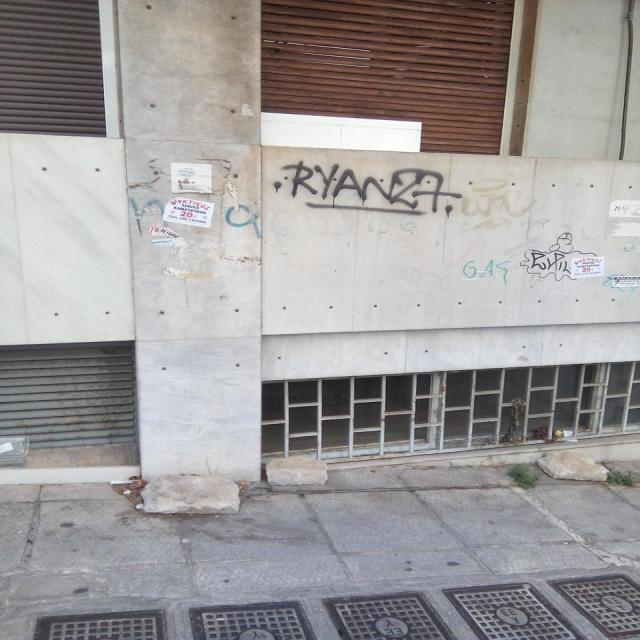nonspitting: (270, 157, 462, 217), (520, 232, 598, 282), (464, 178, 536, 229), (464, 258, 509, 282), (602, 274, 636, 294)
